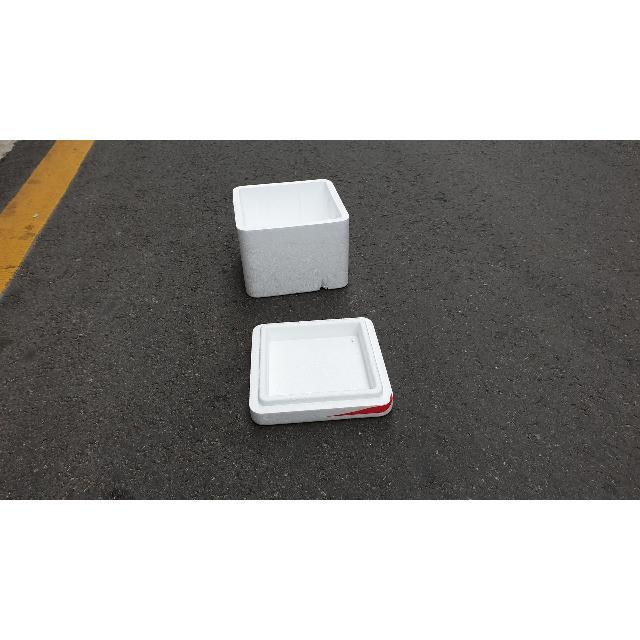Plastico descartable: (249, 318, 394, 426), (232, 180, 350, 301)
